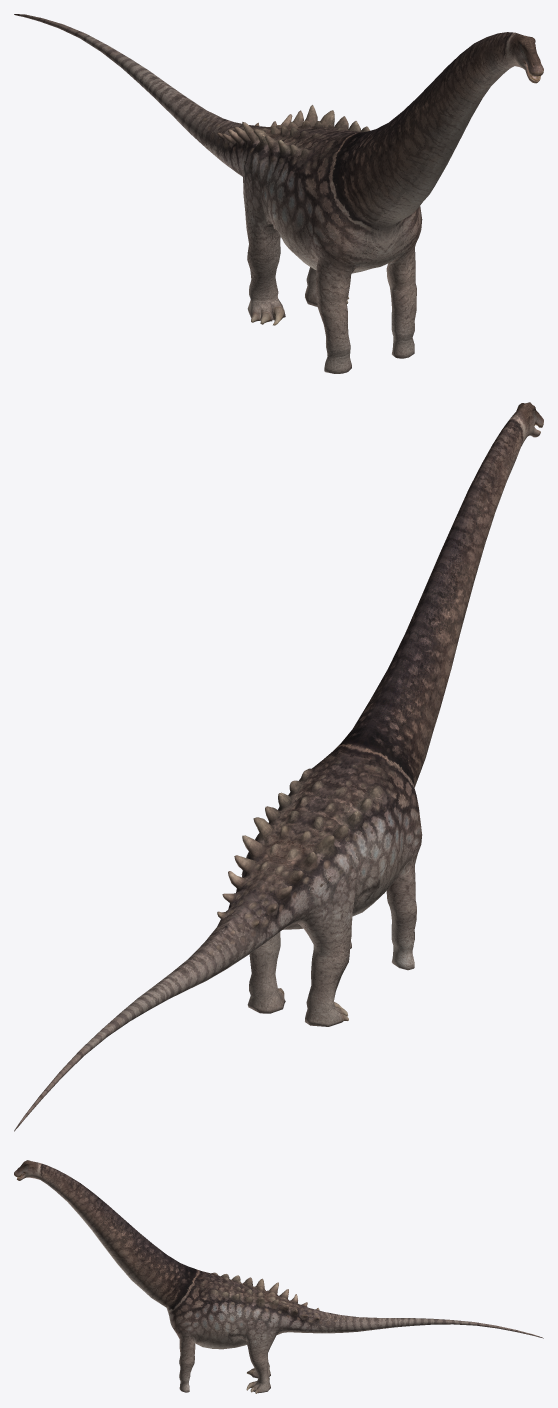
The model's file is argentinossauro_parado.glb.
3 renders of one model, top to bottom at view 1: azimuth 30°, elevation 25°; view 2: azimuth 150°, elevation 25°; view 3: azimuth 270°, elevation 25°, orthographic. The views are drawn at different scales.
Visible parts, largest first — view 1: Object_7_fixo; view 2: Object_7_fixo; view 3: Object_7_fixo.
Part boxes in pixels (bbox=[...]): Object_7_fixo: bbox=[14, 14, 543, 373]; Object_7_fixo: bbox=[14, 402, 543, 1131]; Object_7_fixo: bbox=[14, 1160, 543, 1393].
Size of the model in its own units: 0.2671 by 1.02 by 2.22.
Materials: 1 (1 with a texture image).
